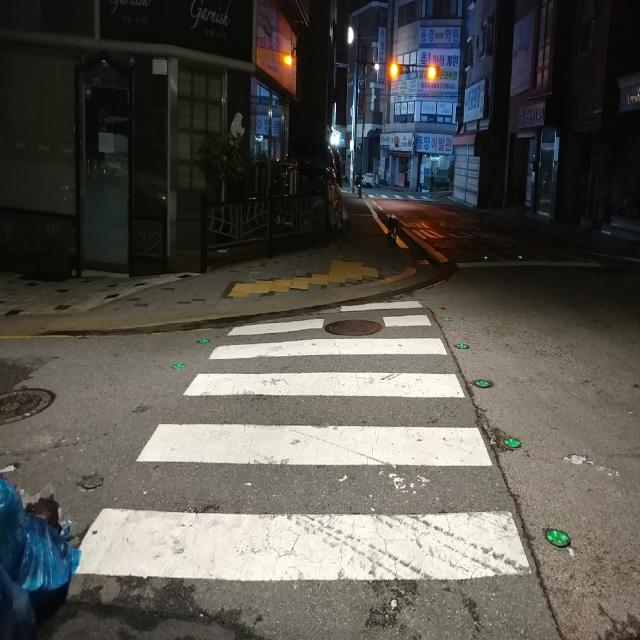횡단보도: (74, 301, 532, 581)
